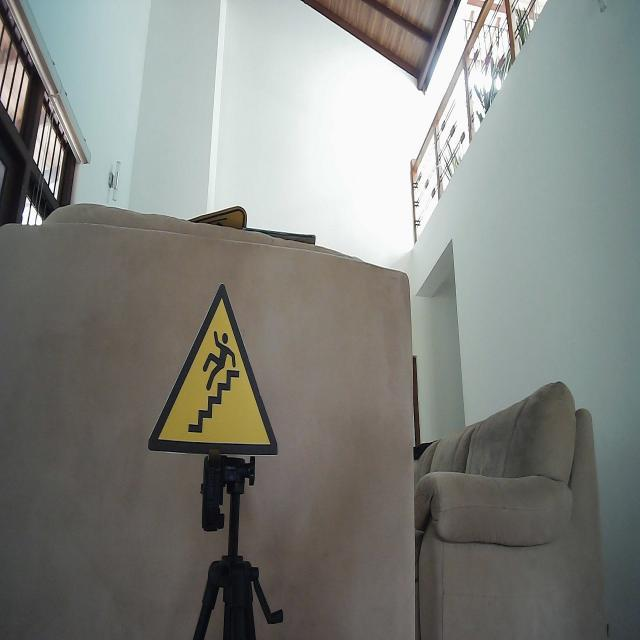stairs: (147, 280, 280, 458)
